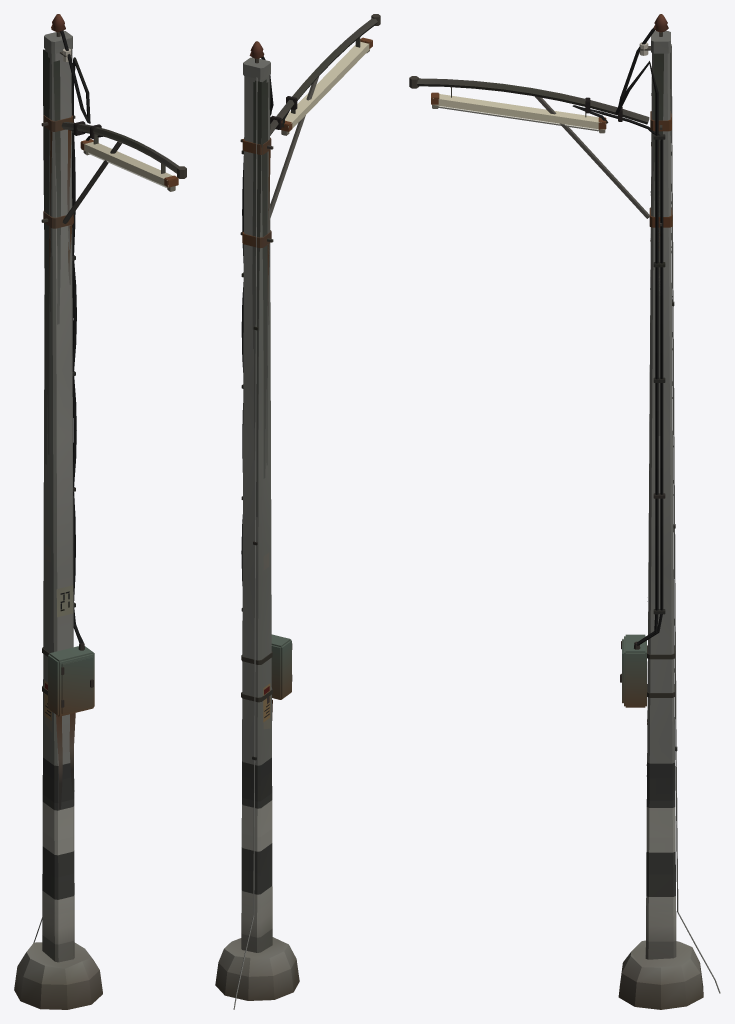
File: lamp_rcc_v2.glb
3 views of the same model, side by side, from view 1: azimuth 30°, elevation 25°; view 2: azimuth 150°, elevation 25°; view 3: azimuth 270°, elevation 25° (orthographic). The views are drawn at different scales.
Visible parts, largest first — view 1: hb_main, hb_tin; view 2: hb_main, hb_tin; view 3: hb_main, hb_tin.
Boxes of the visible parts, left/top/right/bottom form: hb_main: left=14, top=30, right=102, bottom=1009; hb_tin: left=33, top=14, right=186, bottom=942; hb_main: left=215, top=57, right=299, bottom=1000; hb_tin: left=233, top=14, right=380, bottom=1009; hb_main: left=618, top=31, right=703, bottom=1009; hb_tin: left=409, top=14, right=720, bottom=993.
Size of the model in its own units: 0.5346 by 6.62 by 1.9.
